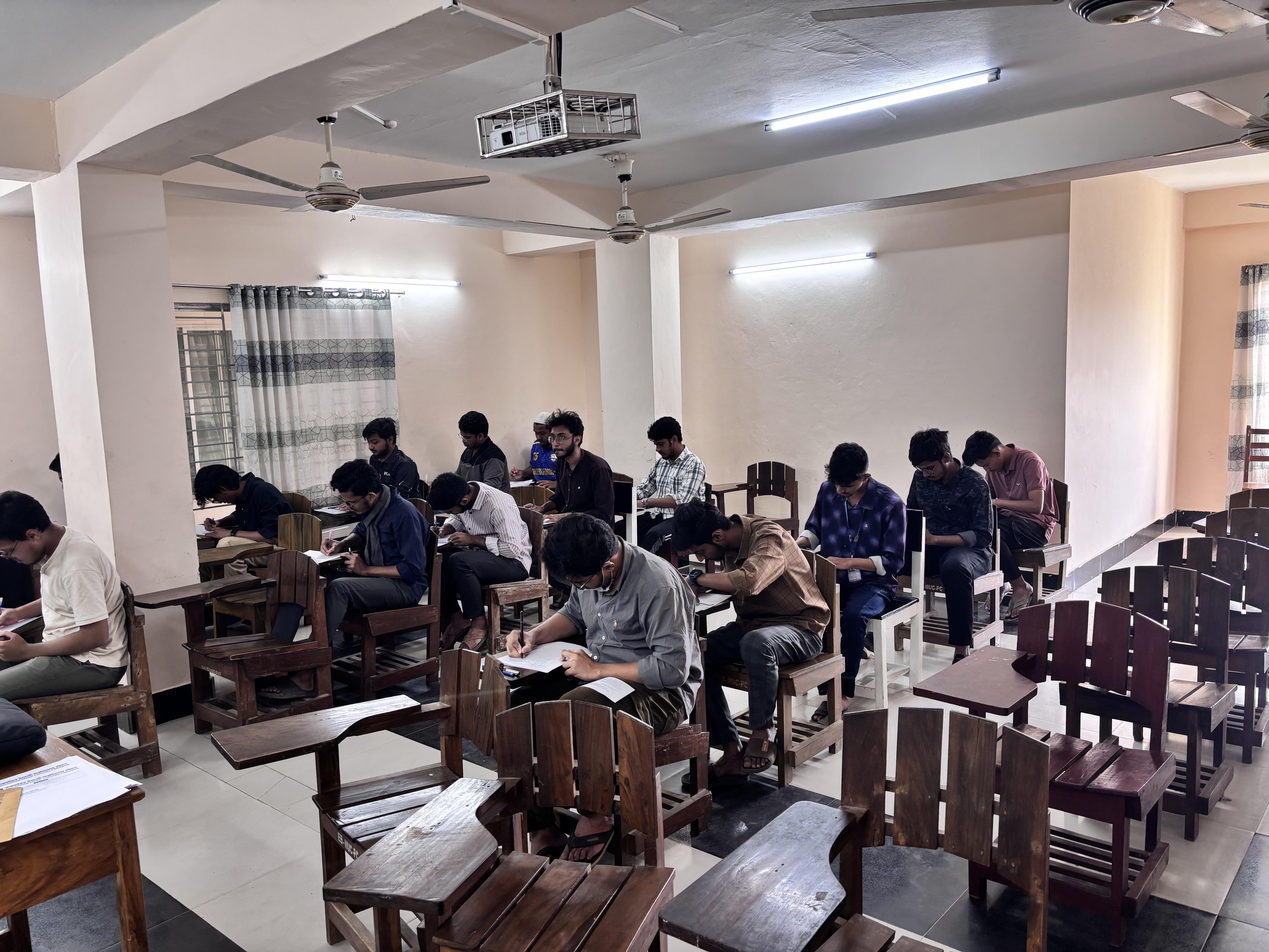no_cheating: (495, 523, 696, 716), (0, 482, 152, 728), (661, 493, 821, 686), (789, 437, 912, 619), (311, 459, 438, 617), (960, 422, 1065, 562), (899, 419, 985, 586), (424, 471, 529, 594), (191, 461, 303, 564), (543, 407, 611, 530), (635, 416, 703, 523), (358, 418, 424, 511), (448, 406, 503, 489), (512, 410, 551, 487)
